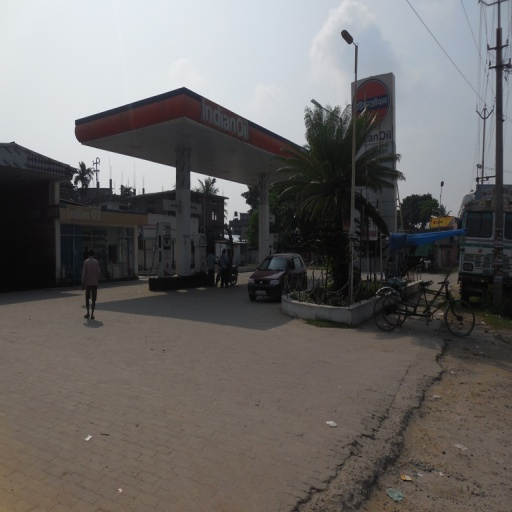roof: (75, 86, 333, 190)
